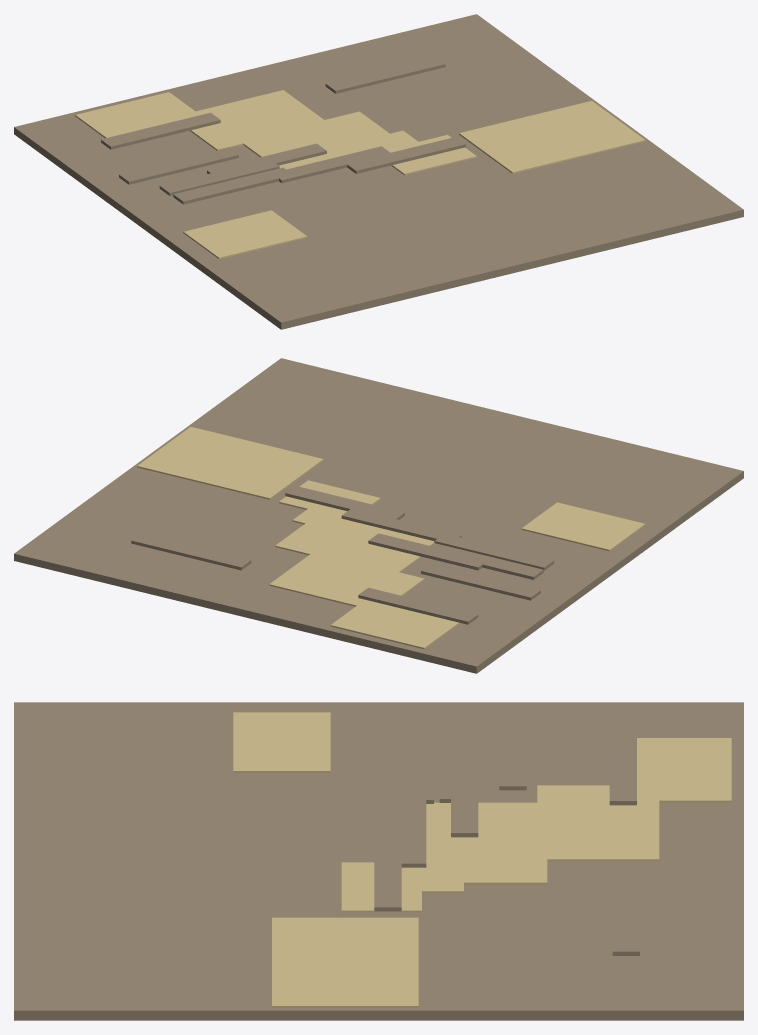
File: tournament-ground-module-mud.glb
3 renders of one model, top to bottom at view 1: azimuth 30°, elevation 25°; view 2: azimuth 150°, elevation 25°; view 3: azimuth 270°, elevation 25°, orthographic. The views are drawn at different scales.
Parts seen in each view (by area): view 1: tournament-ground-module-mud; view 2: tournament-ground-module-mud; view 3: tournament-ground-module-mud.
Part boxes in pixels (bbox=[...]): tournament-ground-module-mud: bbox=[14, 14, 743, 329]; tournament-ground-module-mud: bbox=[14, 358, 743, 673]; tournament-ground-module-mud: bbox=[14, 702, 743, 1020].
Bounding box in the file's own units: 8 × 0.1953 × 8.
